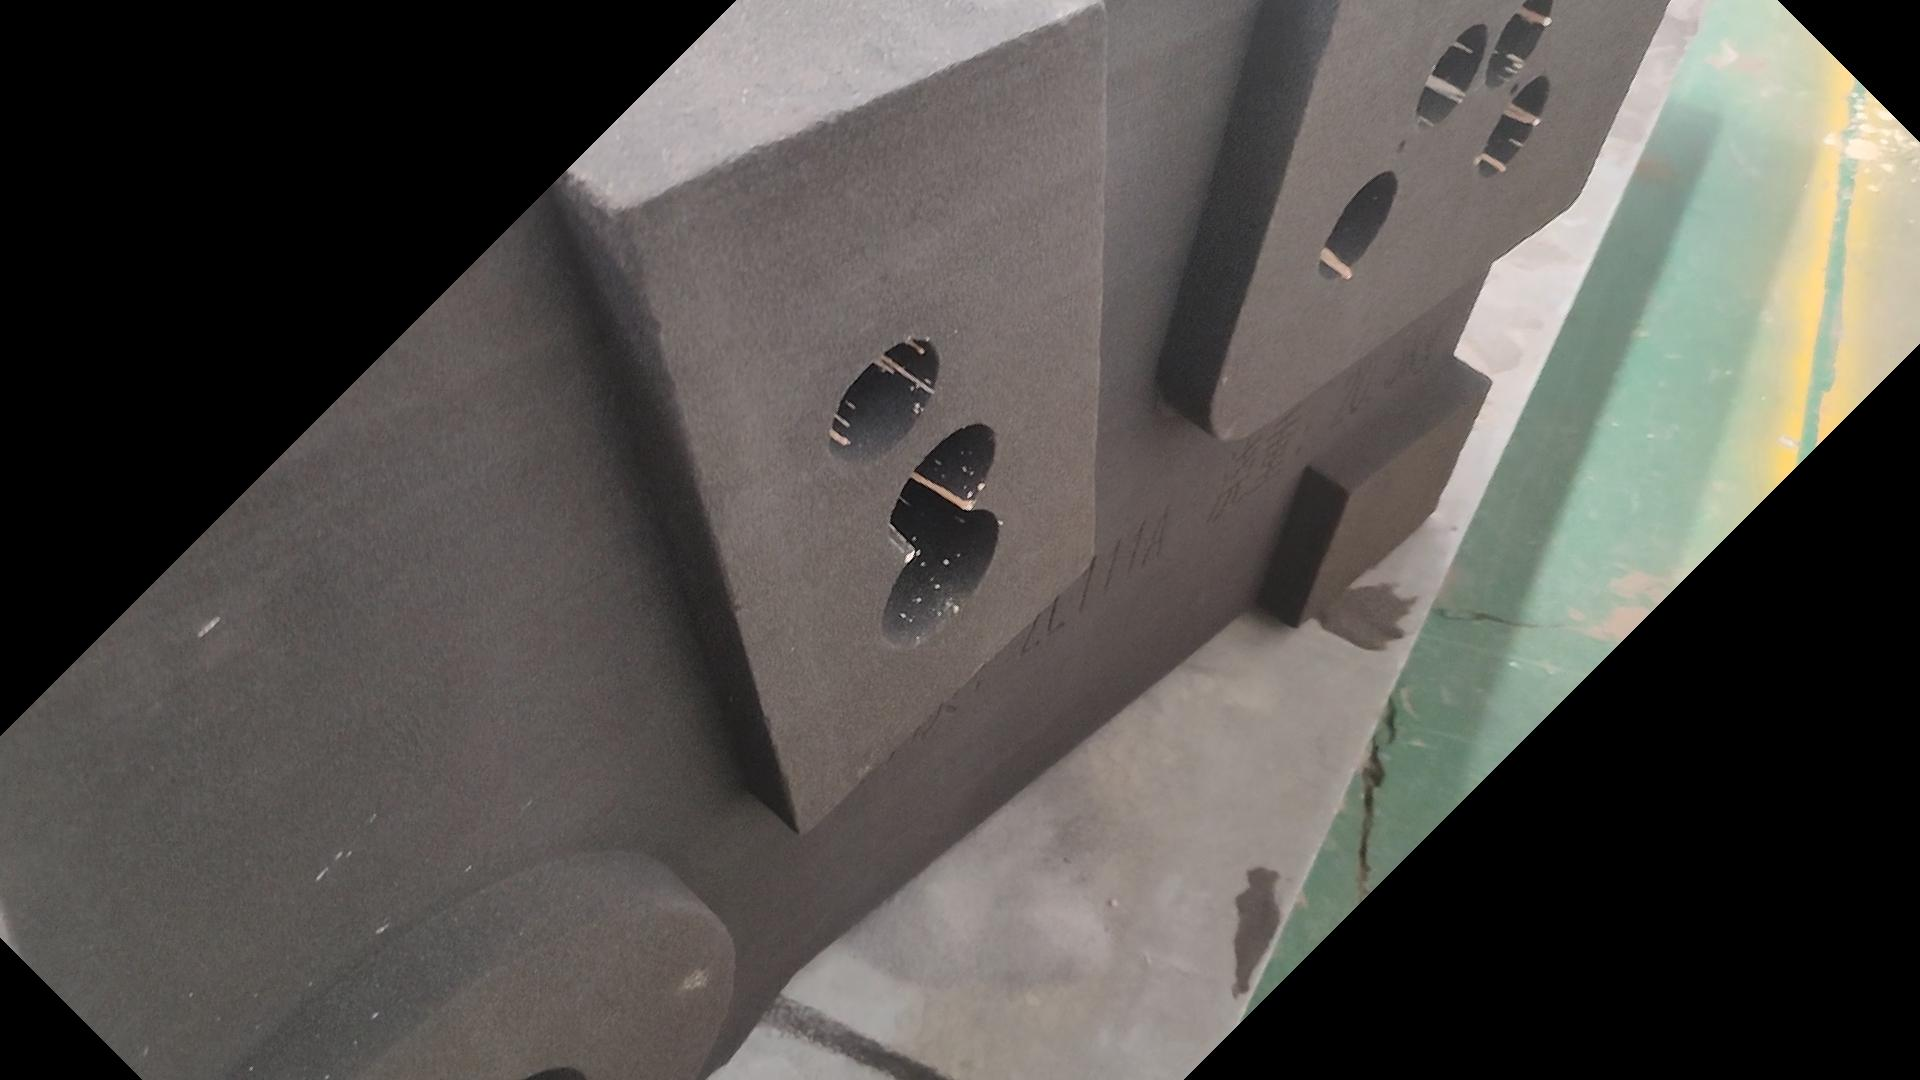pouring hole: (517, 1064, 585, 1080)
